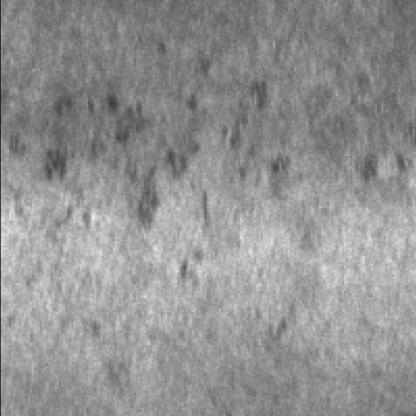rolled-in_scale: (108, 48, 306, 299), (2, 79, 210, 243)
